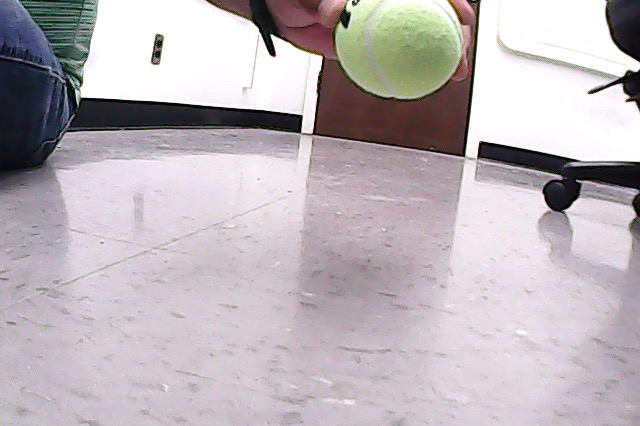ball: (335, 1, 462, 102)
